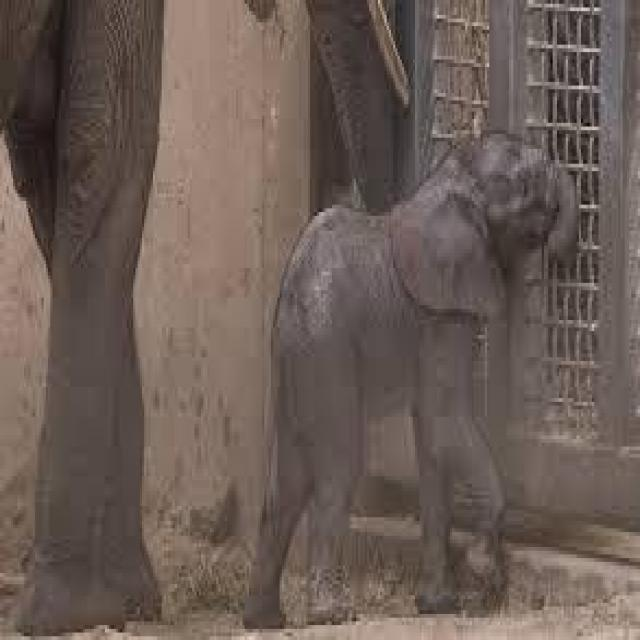Elephant: (258, 126, 578, 630)
